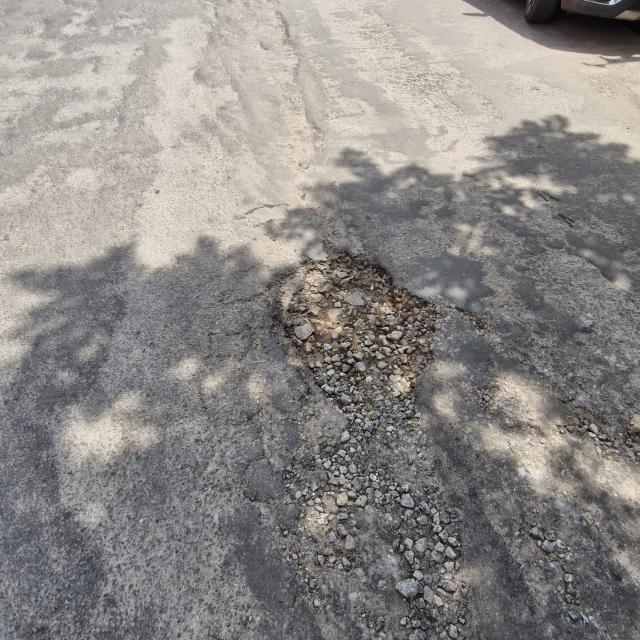pothole: (266, 442, 472, 640), (255, 231, 454, 432), (499, 499, 640, 640), (562, 392, 640, 478), (457, 305, 518, 354), (466, 365, 510, 425)
